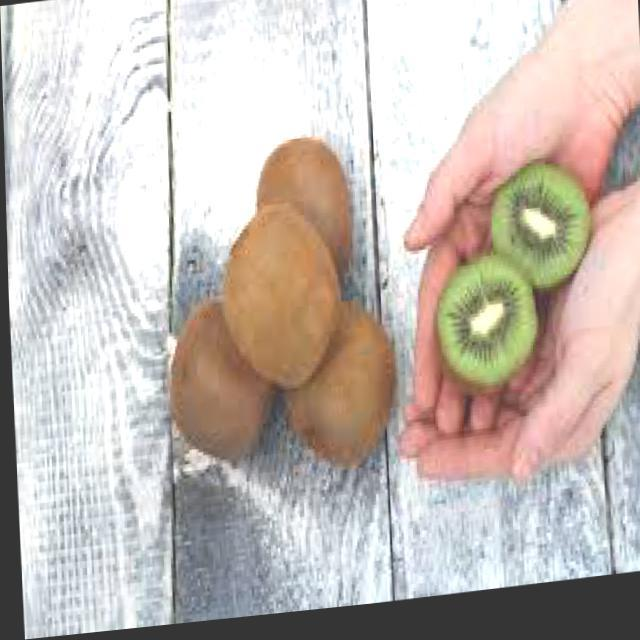kiwi: (212, 197, 346, 406)
